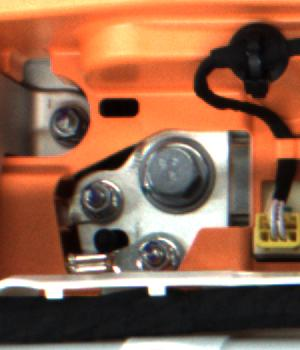nut_b: (139, 137, 225, 214)
screw_s: (73, 180, 124, 221), (47, 104, 86, 146), (140, 232, 177, 271)
